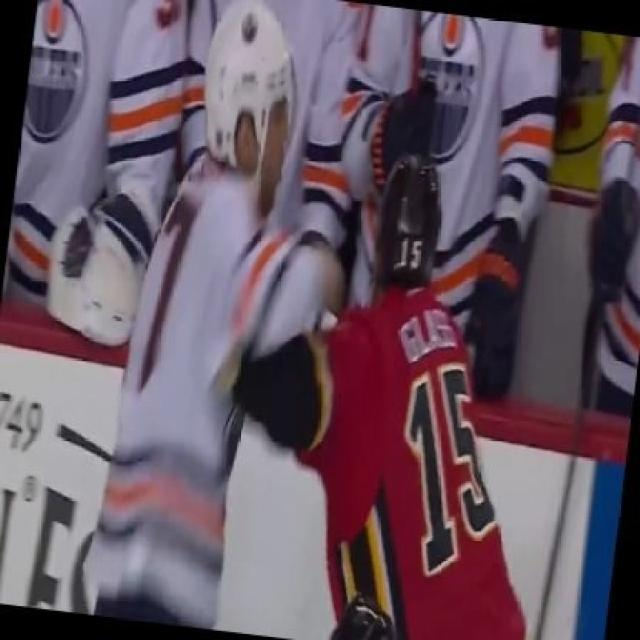fight: (95, 6, 521, 638)
